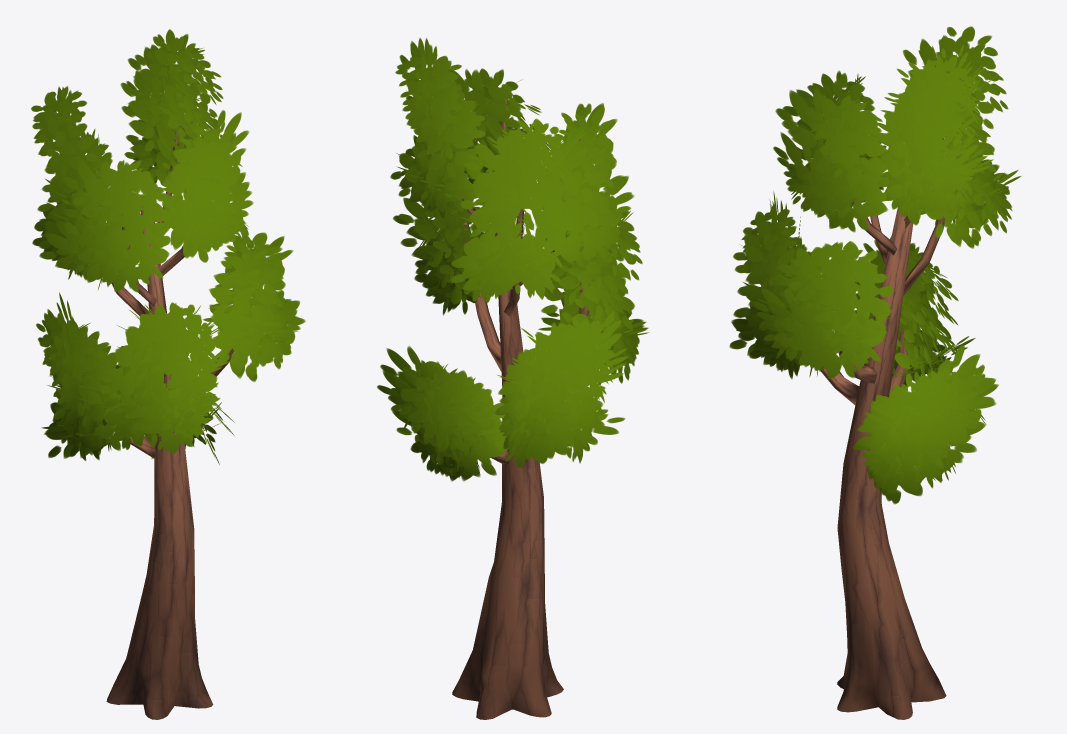
File: tree-2.glb
3 renders of one model, left to right at view 1: azimuth 30°, elevation 25°; view 2: azimuth 150°, elevation 25°; view 3: azimuth 270°, elevation 25°, orthographic. The views are drawn at different scales.
Visible parts, largest first — view 1: CommonTree_3; view 2: CommonTree_3; view 3: CommonTree_3.
Part boxes in pixels (left/top/right/bottom): CommonTree_3: left=31, top=29, right=305, bottom=719; CommonTree_3: left=377, top=38, right=649, bottom=719; CommonTree_3: left=729, top=26, right=1021, bottom=719.
Size of the model in its own units: 4.06 by 9.43 by 4.24.
Materials: 2 (2 with a texture image).
